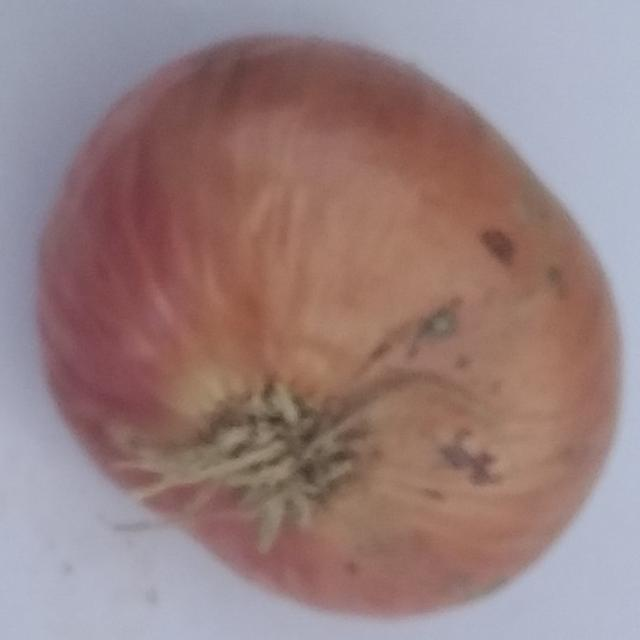onion: (29, 30, 632, 620)
